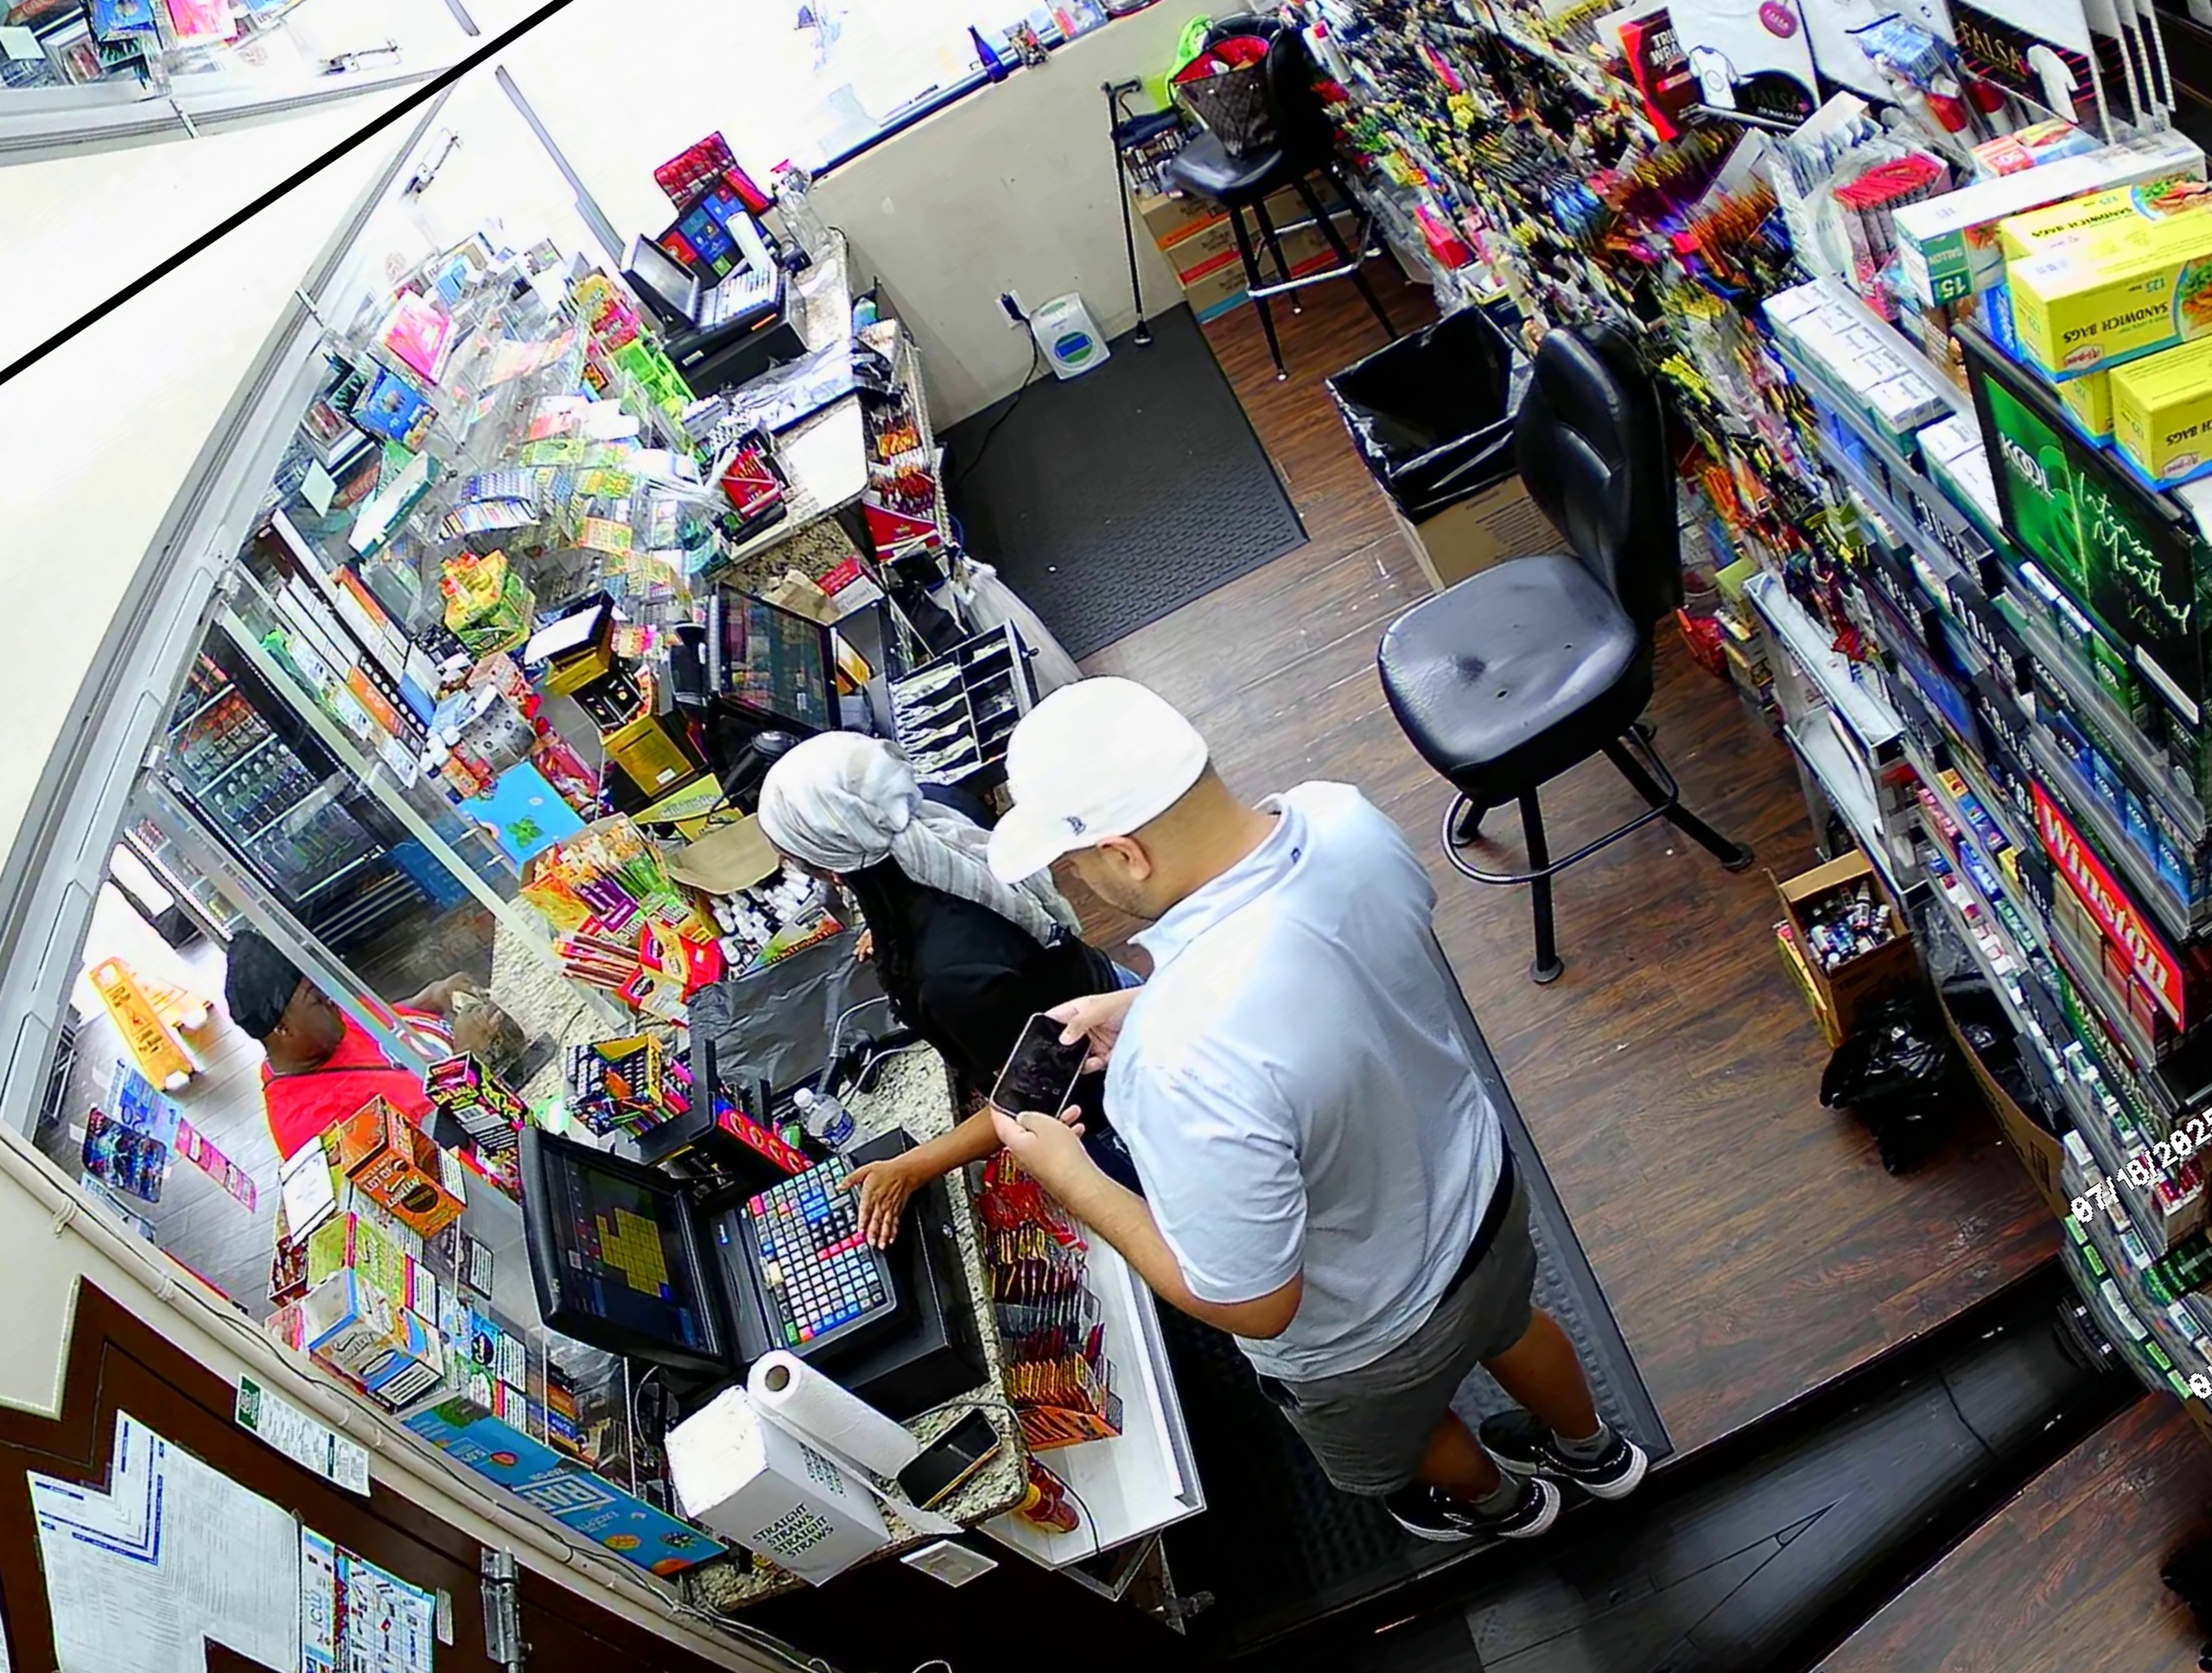phone: (984, 1000, 1105, 1142)
